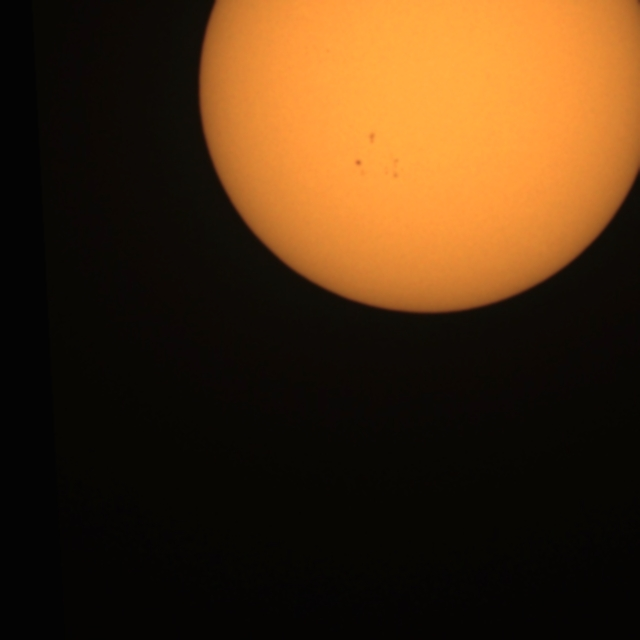sunspot: (349, 146, 406, 186), (382, 156, 404, 182), (366, 130, 378, 147), (353, 157, 365, 169)
